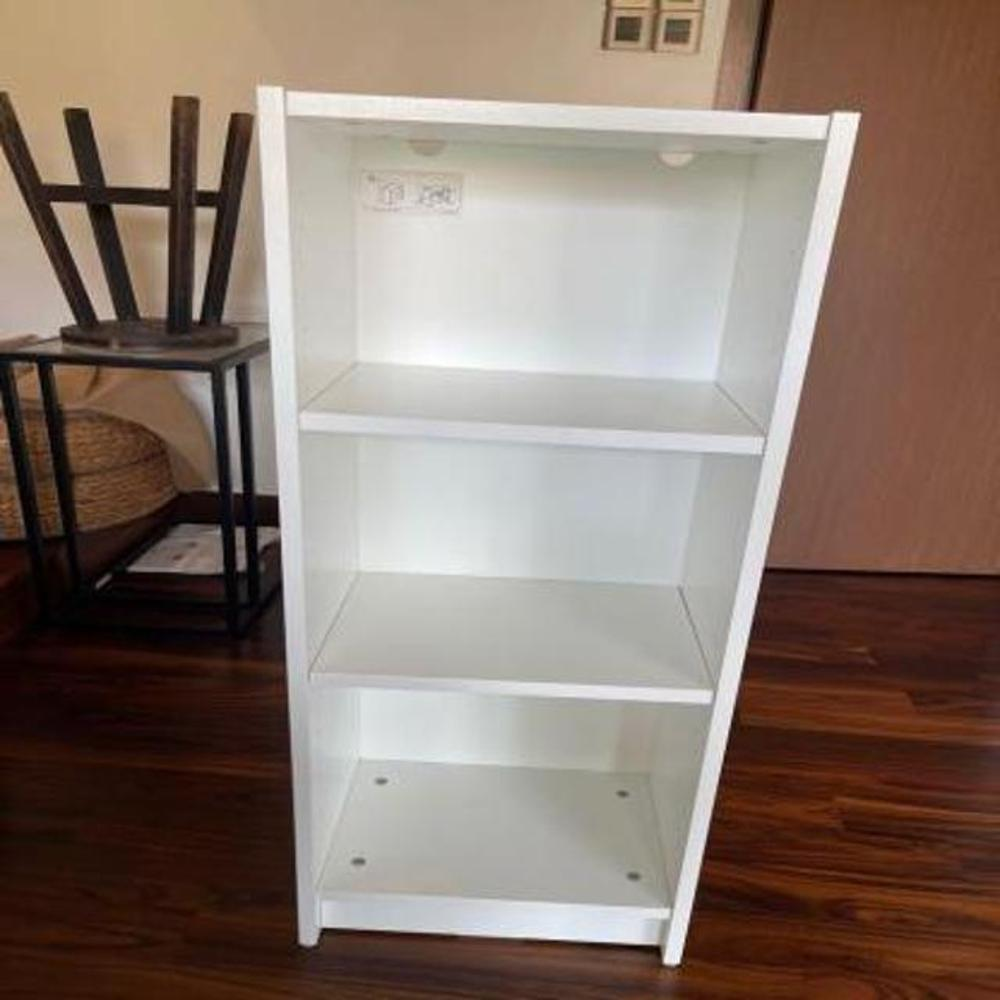lamp: (255, 82, 870, 966)
